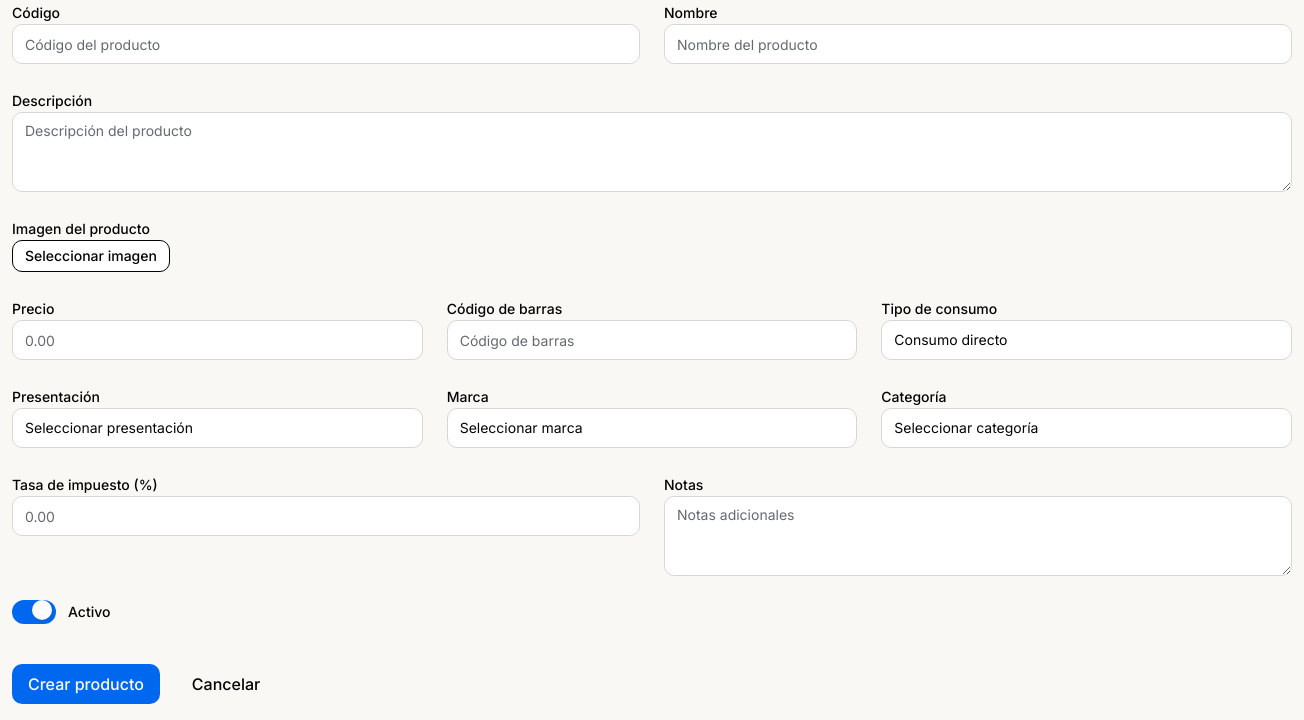
Test: ProductForm › shows validation errors for required fields
Click the button "Crear producto": {"x": 86, "y": 684} [12,664,160,704]
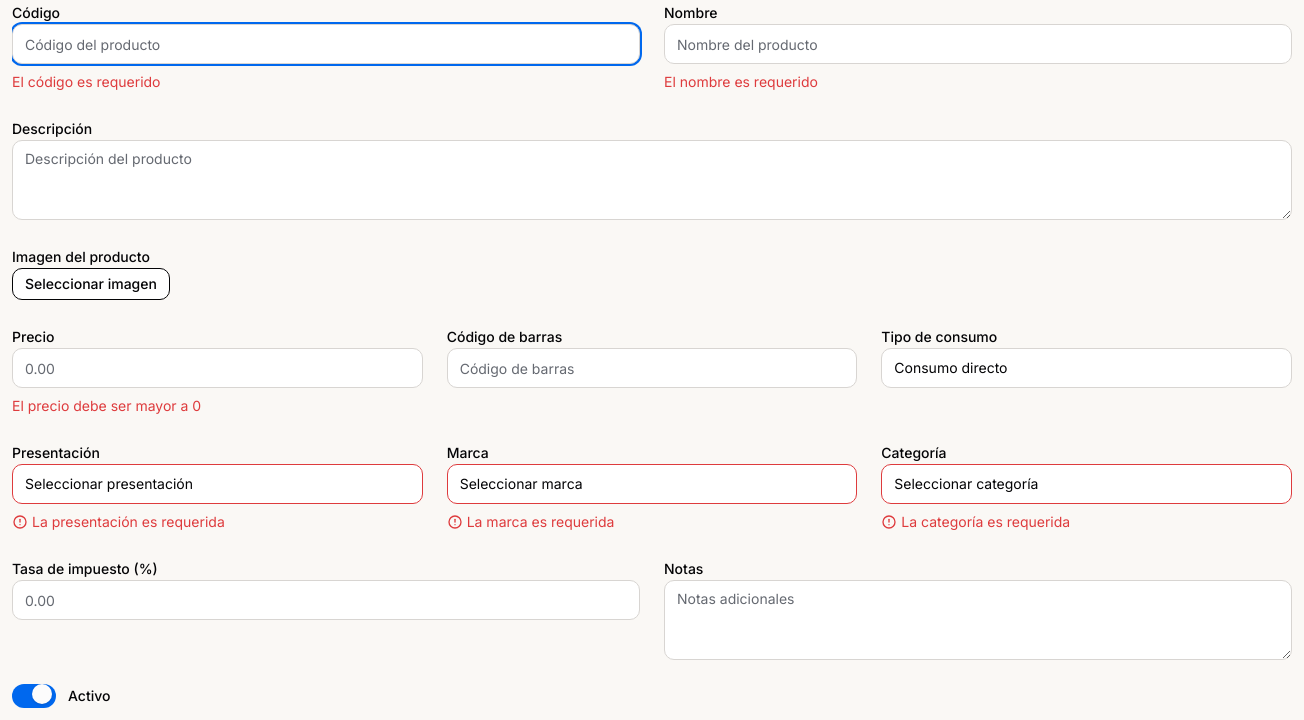
Check: the text "El código es requerido" is shown, box [12,73,160,90]
Check: the text "El nombre es requerido" is shown, box [664,73,818,90]
Check: the text "El precio debe ser mayor a 0" is shown, box [12,397,201,414]
